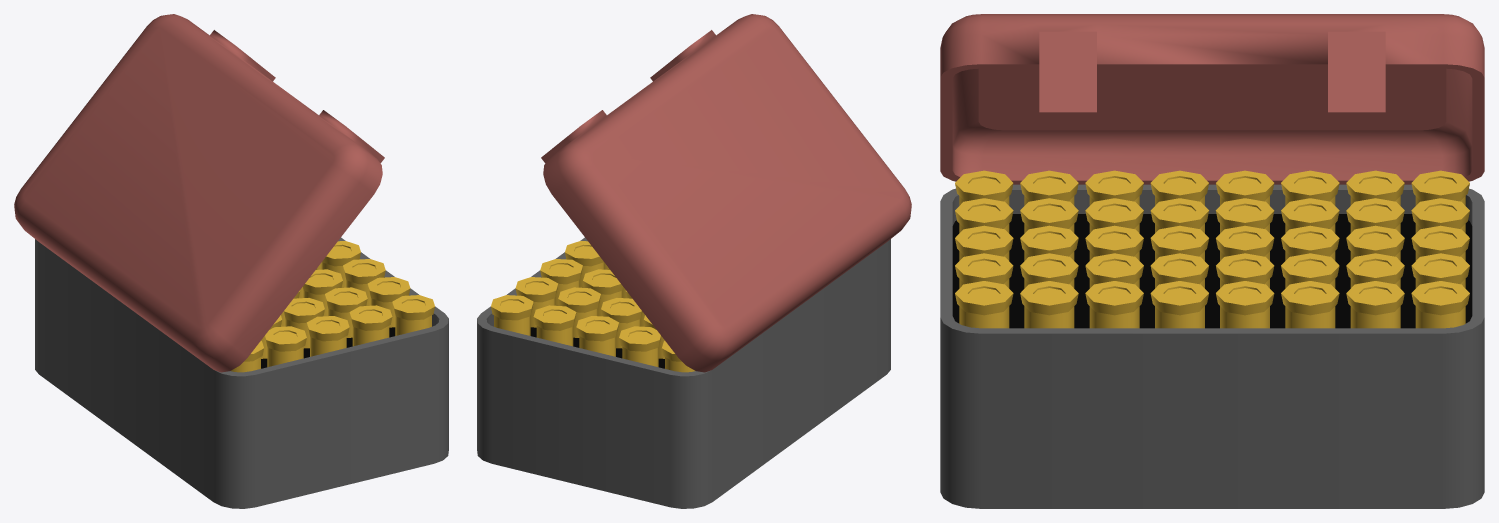
The model's file is Bullet Create 1.fbx.
3 renders of one model, left to right at view 1: azimuth 30°, elevation 25°; view 2: azimuth 150°, elevation 25°; view 3: azimuth 270°, elevation 25°, orthographic. The views are drawn at different scales.
Parts seen in each view (by area): view 1: Cube.001, Cube, Cylinder; view 2: Cube.001, Cube, Cylinder; view 3: Cube, Cube.001, Cylinder.
Part boxes in pixels (box(x1,y1,x2,y2)): Cube.001: box(14, 14, 384, 372); Cube: box(35, 237, 448, 508); Cylinder: box(231, 241, 434, 372); Cube.001: box(541, 14, 911, 372); Cube: box(477, 237, 890, 508); Cylinder: box(491, 241, 694, 372); Cube: box(940, 184, 1484, 508); Cube.001: box(940, 14, 1484, 184); Cylinder: box(955, 170, 1469, 328).
Bounding box in the file's own units: 118 × 145 × 167.
